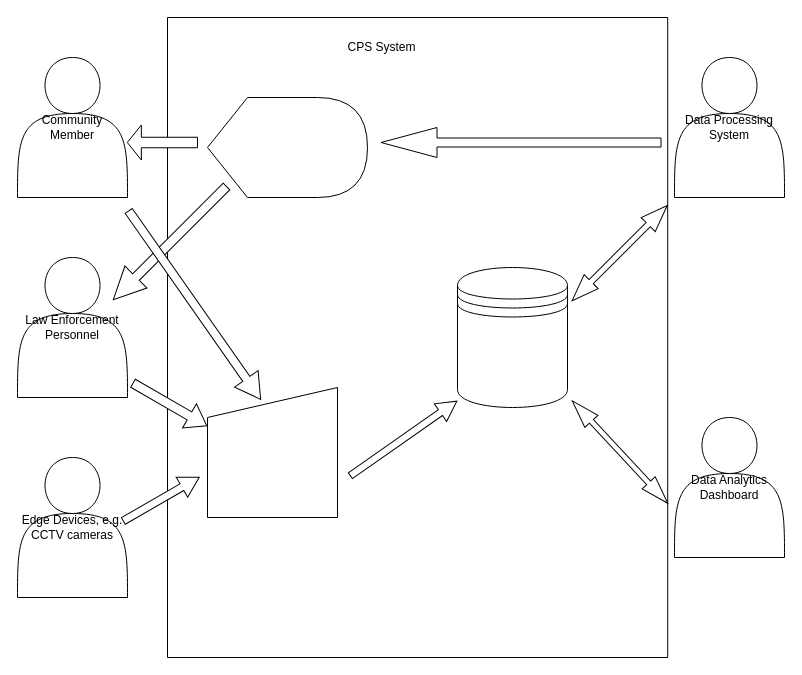
Image size: 802x675. Some labels were removed from this diagram. Each missing label, with the centre of its shape:
Alert System: pixel 287 147
CPSClient: pixel 272 452
CPSDatabase: pixel 512 337
